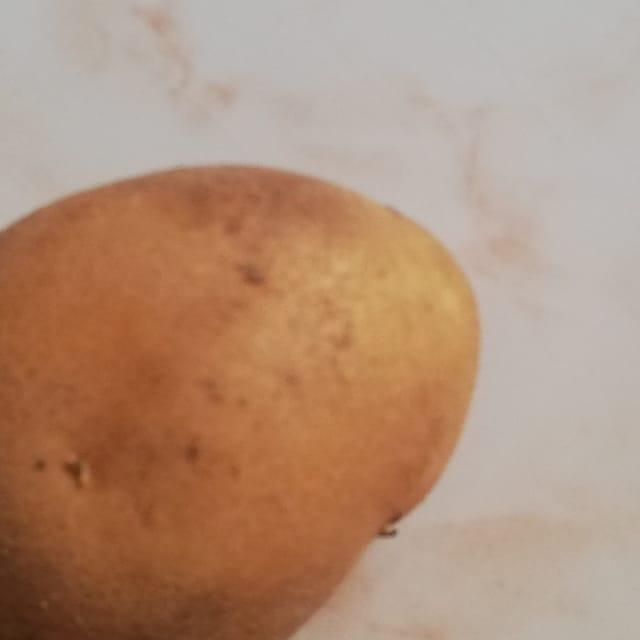potato: (0, 144, 496, 640)
